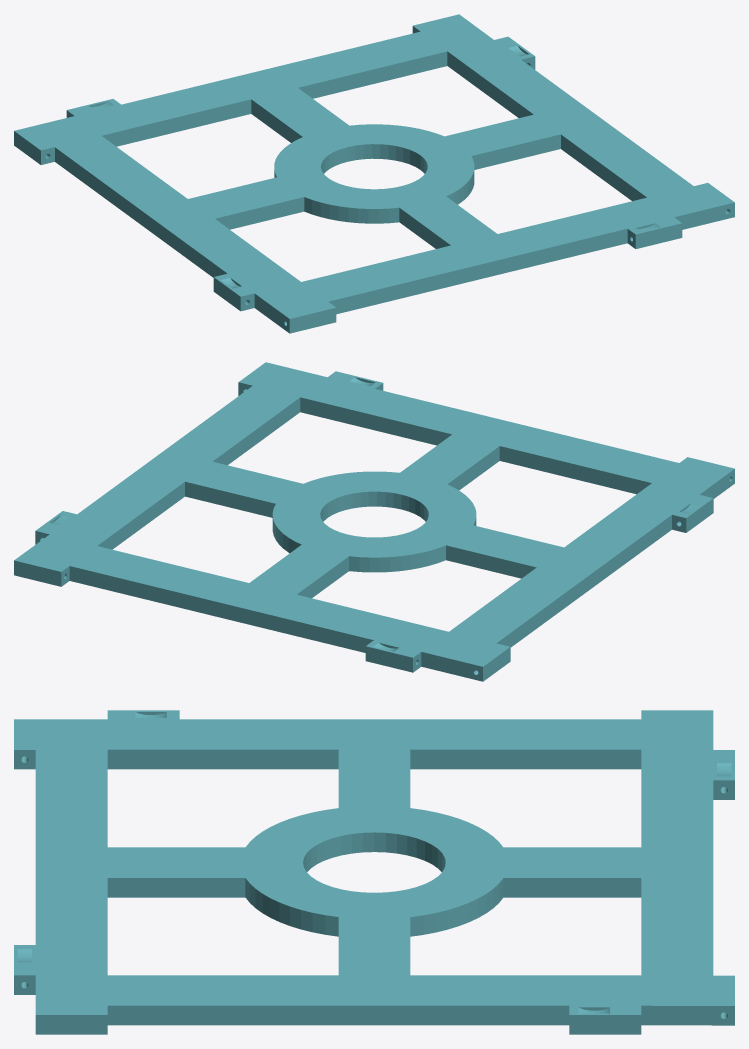
The model's file is Cubes Frame.glb.
The picture shows the model from 3 angles, top to bottom: view 1: azimuth 30°, elevation 25°; view 2: azimuth 150°, elevation 25°; view 3: azimuth 270°, elevation 25°; orthographic projection. The views are drawn at different scales.
Visible parts, largest first — view 1: Mesh_Mesh_head_geo.001_lambert2SG.001; view 2: Mesh_Mesh_head_geo.001_lambert2SG.001; view 3: Mesh_Mesh_head_geo.001_lambert2SG.001.
Part boxes in pixels (left/top/right/bottom): Mesh_Mesh_head_geo.001_lambert2SG.001: left=14, top=14, right=734, bottom=333; Mesh_Mesh_head_geo.001_lambert2SG.001: left=14, top=362, right=734, bottom=681; Mesh_Mesh_head_geo.001_lambert2SG.001: left=14, top=710, right=734, bottom=1034.
Bounding box in the file's own units: 100 × 3 × 100.
